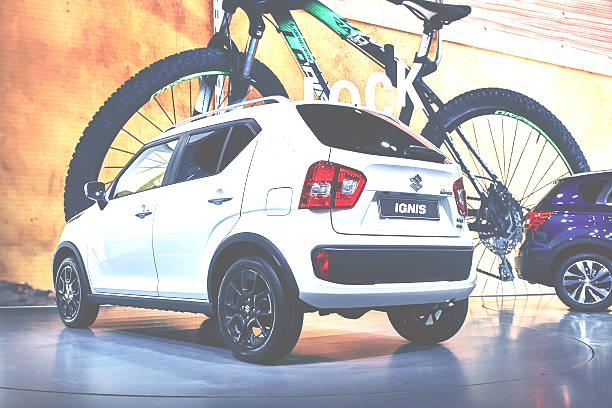suzuki: (404, 168, 434, 196)
